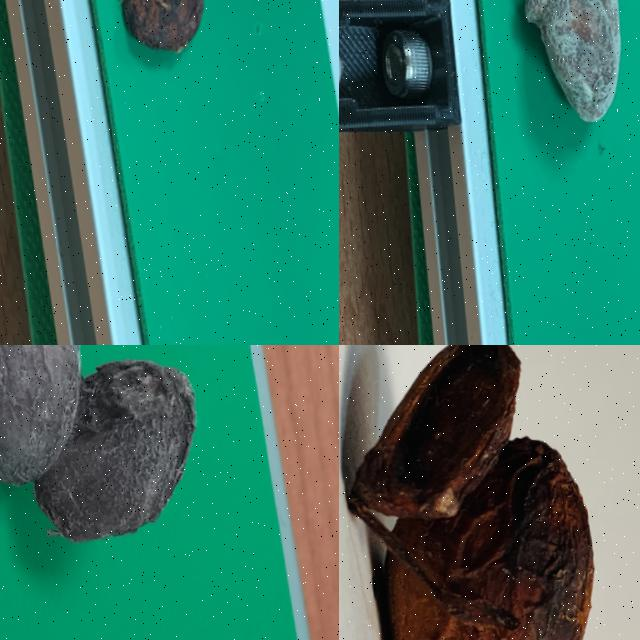Agglomerated_cocoabeans: (339, 345, 639, 639), (0, 345, 237, 639), (466, 0, 639, 206)
Flat_cocoabeans: (66, 0, 242, 204)
